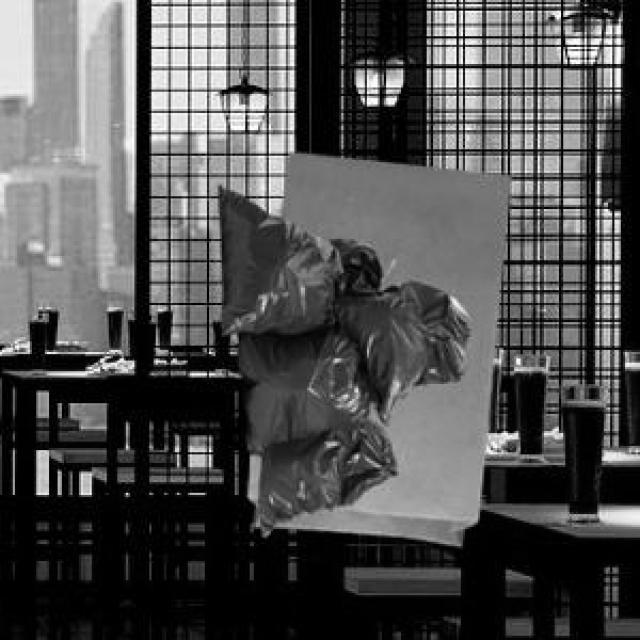miscellaneous trash: (216, 181, 465, 533)
paper: (245, 149, 506, 542)
